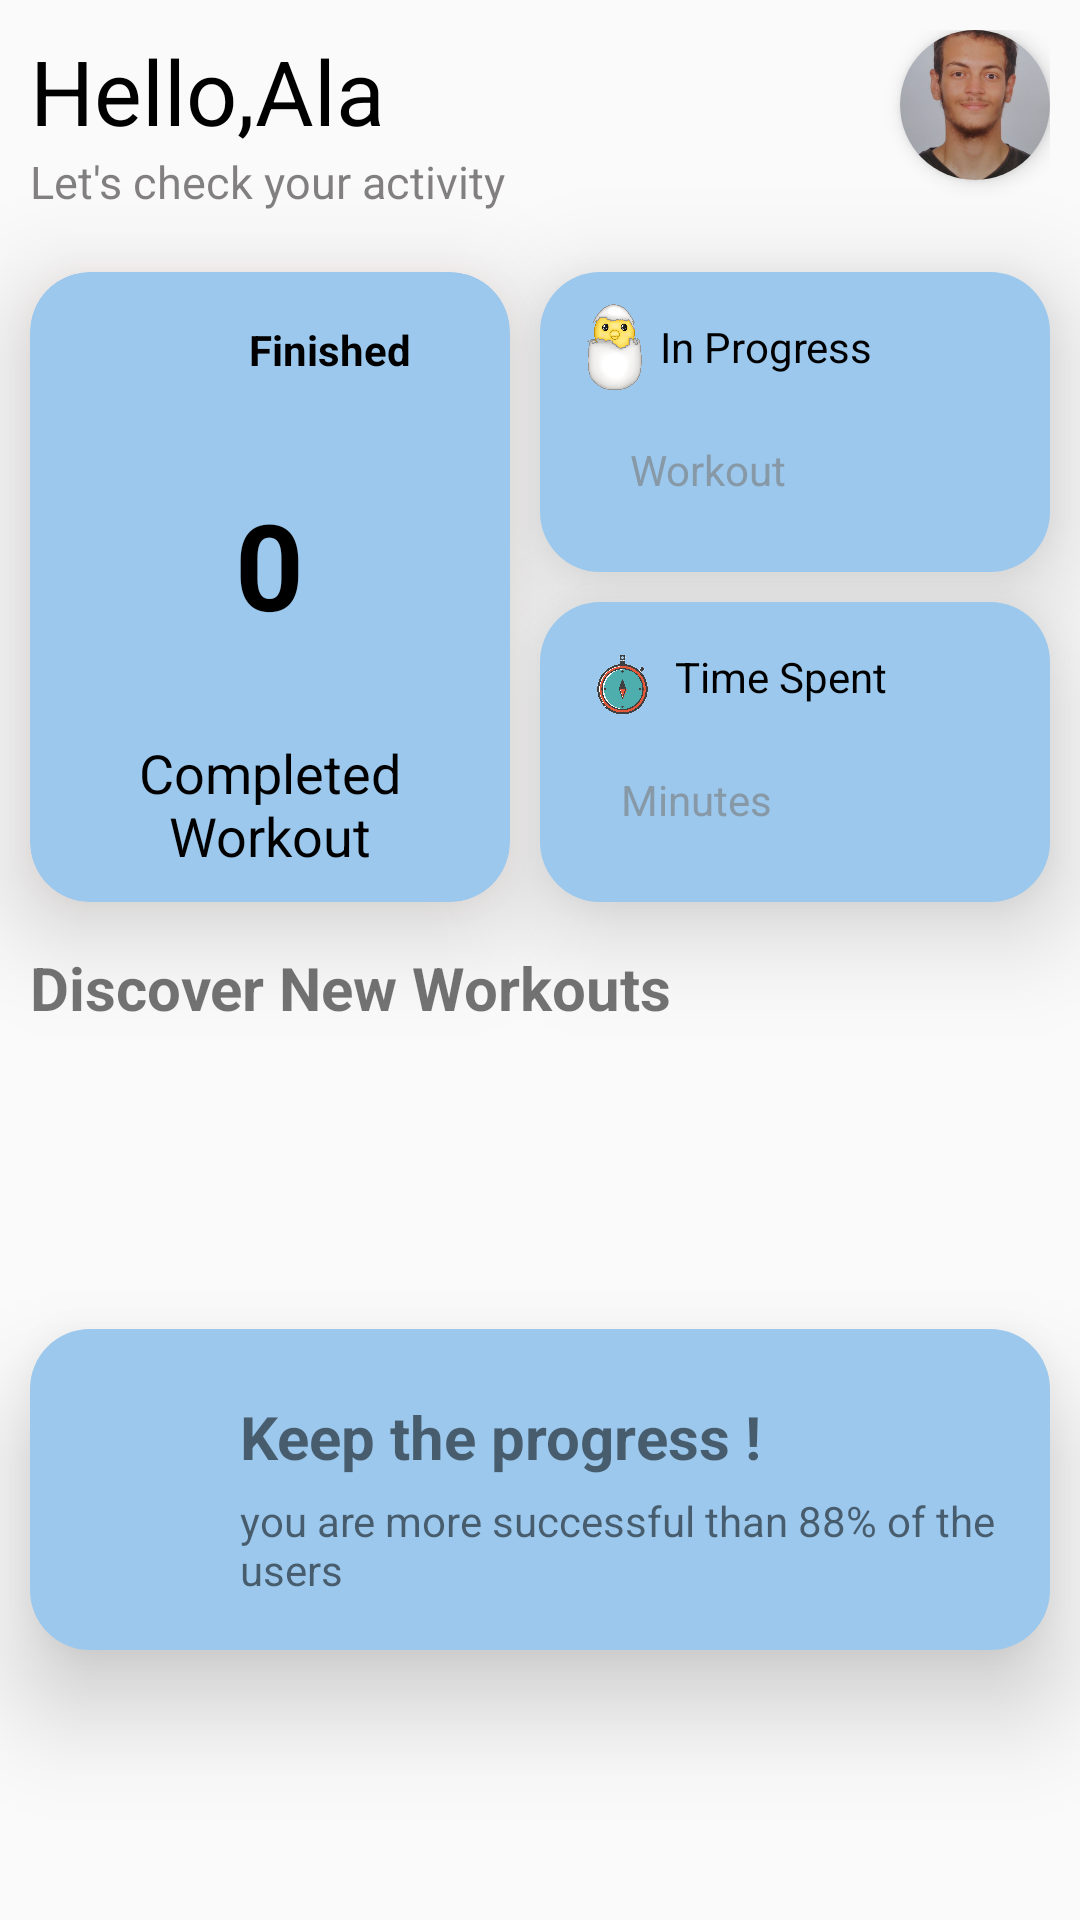

Named icons in this screenshot (1080*1920) and their bounding boxes, (x1, y1, x2, y2):
chicken: (587, 304, 642, 390)
stopwatch: (597, 655, 648, 714)
user: (900, 30, 1050, 180)
